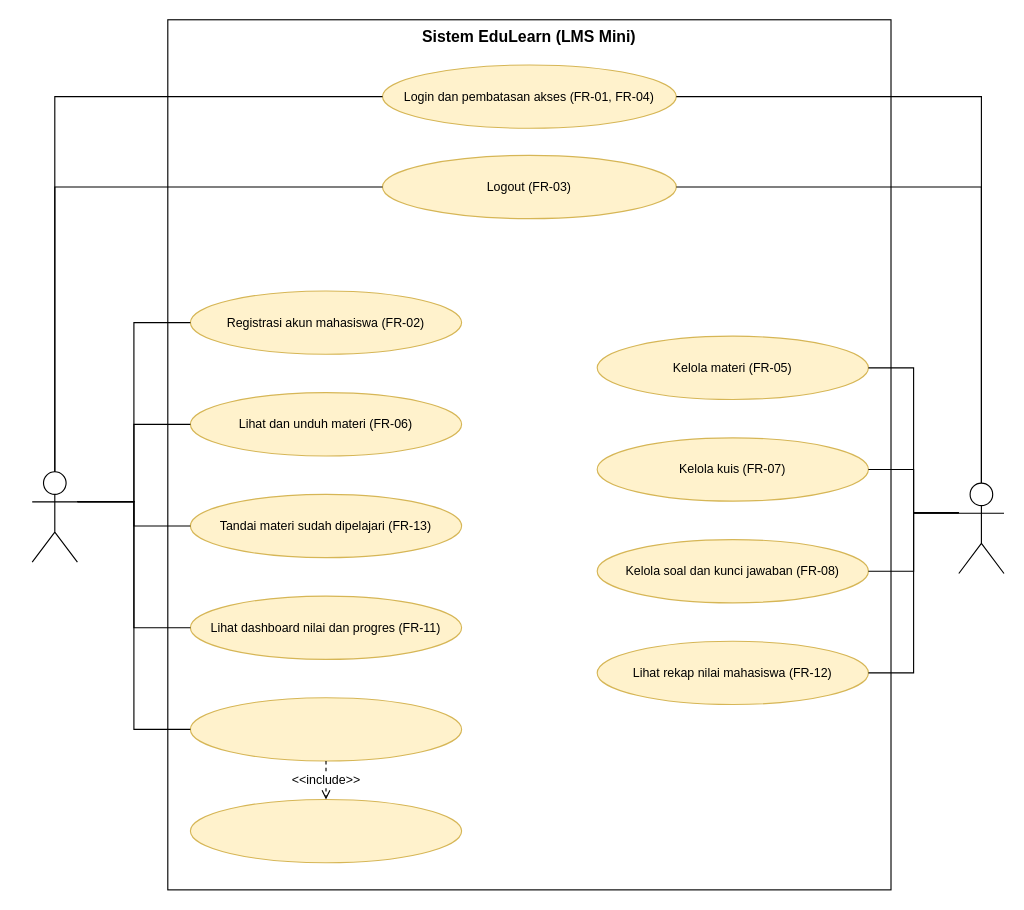
Some shapes in this 1024 by 910 pixel diagram are drawn without their labels. The shapes that lost their labels are listed below. From the top down, each one's centre as x and y in pixels, then its label:
At (x=54, y=516): "Mahasiswa".
At (x=981, y=527): "Dosen".
At (x=325, y=729): "Kerjakan kuis (FR-09)".
At (x=325, y=830): "Hitung nilai otomatis (FR-10)".
